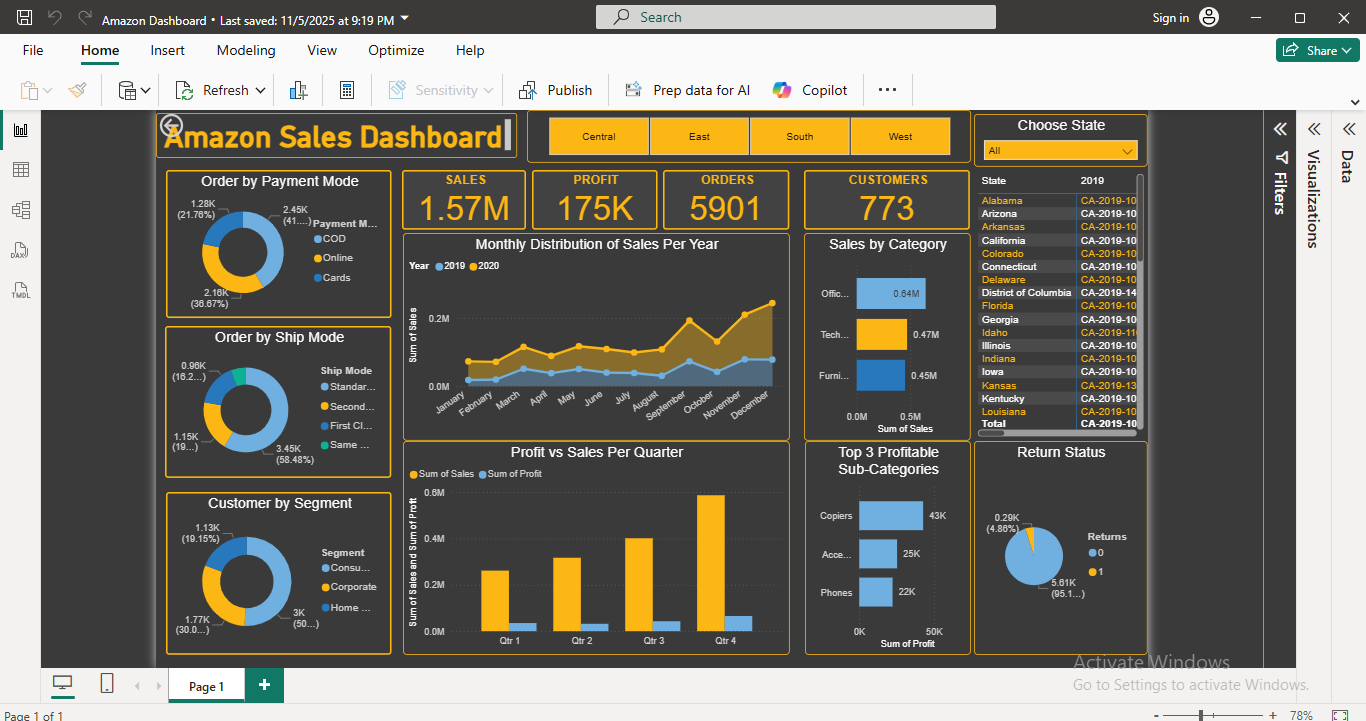

The page's visual inventory and layout, read from the dashboard file:
{"tool":"powerbi","page":{"name":"Page 1","canvas":[1280,720],"ordinal":0},"visuals":[{"type":"donutChart","title":"Order by Payment Mode","fields":{"Category":["Sheet1.Payment Mode"],"Y":["CountNonNull(Sheet1.Order ID)"]},"box":[12.8,78,290.6,191.3],"z":0},{"type":"donutChart","title":"Order by Ship Mode","fields":{"Y":["CountNonNull(Sheet1.Order ID)"],"Category":["Sheet1.Ship Mode"]},"box":[11.3,279.2,292,195.6],"z":1000},{"type":"donutChart","title":"Customer by Segment","fields":{"Category":["Sheet1.Segment"],"Y":["CountNonNull(Sheet1.Customer ID)"]},"box":[12.8,493.2,290.6,209.8],"z":2000},{"type":"textbox","box":[0,4.3,466.3,58.1],"z":3000},{"type":"clusteredBarChart","title":"Sales by Category","fields":{"Y":["Sum(Sheet1.Sales)"],"Category":["Sheet1.Category"]},"box":[836.2,158.7,215.4,267.9],"z":4000},{"type":"clusteredBarChart","title":"Top 3 Profitable Sub-Categories","fields":{"Y":["Sum(Sheet1.Profit)"],"Category":["Sheet1.Sub-Category"]},"box":[837.6,426.6,214,276.4],"z":5000},{"type":"pieChart","title":" Return Status","fields":{"Category":["Sheet1.Returns"],"Y":["CountNonNull(Sheet1.Order ID)"]},"box":[1055.9,426.6,223.9,276.4],"z":6000},{"type":"stackedAreaChart","title":" Monthly Distribution of Sales Per Year","fields":{"Category":["Sheet1.Order Date.Variation.Date Hierarchy.Month"],"Y":["Sum(Sheet1.Sales)"],"Series":["Sheet1.Order Date.Variation.Date Hierarchy.Year"]},"box":[318.9,158.7,498.9,267.9],"z":7000},{"type":"clusteredColumnChart","title":"Profit vs Sales Per Quarter","fields":{"Category":["Sheet1.Order Date.Variation.Date Hierarchy.Quarter"],"Y":["Sum(Sheet1.Sales)","Sum(Sheet1.Profit)"]},"box":[318.9,426.6,498.9,276.4],"z":8000},{"type":"slicer","fields":{"Values":["Sheet1.Region"]},"box":[479.1,0,572.6,68],"z":9000},{"type":"slicer","title":"Choose State","fields":{"Values":["Sheet1.State"]},"box":[1055.9,5.7,223.9,68],"z":10000},{"type":"card","title":"SALES","fields":{"Values":["Sum(Sheet1.Sales)"]},"box":[317.5,78,160.2,76.5],"z":11000},{"type":"actionButton","box":[0,0,100,40],"z":12000},{"type":"card","title":"PROFIT","fields":{"Values":["Sum(Sheet1.Profit)"]},"box":[484.7,78,161.6,76.5],"z":13000},{"type":"card","title":"CUSTOMERS","fields":{"Values":["Count(Sheet1.Customer ID)"]},"box":[836.2,78,214,76.5],"z":14000},{"type":"card","title":"ORDERS","fields":{"Values":["CountNonNull(Sheet1.Order ID)"]},"box":[654.8,78,163,76.5],"z":15000},{"type":"pivotTable","fields":{"Rows":["Sheet1.State"],"Columns":["Sheet1.Ship Date.Variation.Date Hierarchy.Year"],"Values":["Min(Sheet1.Order ID)"]},"box":[1055.9,78,223.9,348.7],"z":15001}]}

Visuals, with their boxes in screenshot pixels (x1, y1, x2, y2):
"Order by Payment Mode" donutChart: bbox=(38, 31, 325, 220)
"Order by Ship Mode" donutChart: bbox=(36, 230, 325, 423)
"Customer by Segment" donutChart: bbox=(38, 442, 325, 649)
textbox: bbox=(25, 0, 486, 15)
"Sales by Category" clusteredBarChart: bbox=(852, 111, 1065, 376)
"Top 3 Profitable Sub-Categories" clusteredBarChart: bbox=(853, 376, 1065, 649)
" Return Status" pieChart: bbox=(1069, 376, 1291, 649)
" Monthly Distribution of Sales Per Year" stackedAreaChart: bbox=(340, 111, 834, 376)
"Profit vs Sales Per Quarter" clusteredColumnChart: bbox=(340, 376, 834, 649)
slicer - Sheet1.Region: bbox=(499, 0, 1065, 21)
"Choose State" slicer: bbox=(1069, 0, 1291, 27)
"SALES" card: bbox=(339, 31, 497, 107)
"PROFIT" card: bbox=(504, 31, 664, 107)
"CUSTOMERS" card: bbox=(852, 31, 1064, 107)
"ORDERS" card: bbox=(673, 31, 834, 107)
pivotTable - Sheet1.State x Sheet1.Ship Date.Variation.Date Hierarchy.Year: bbox=(1069, 31, 1291, 376)
